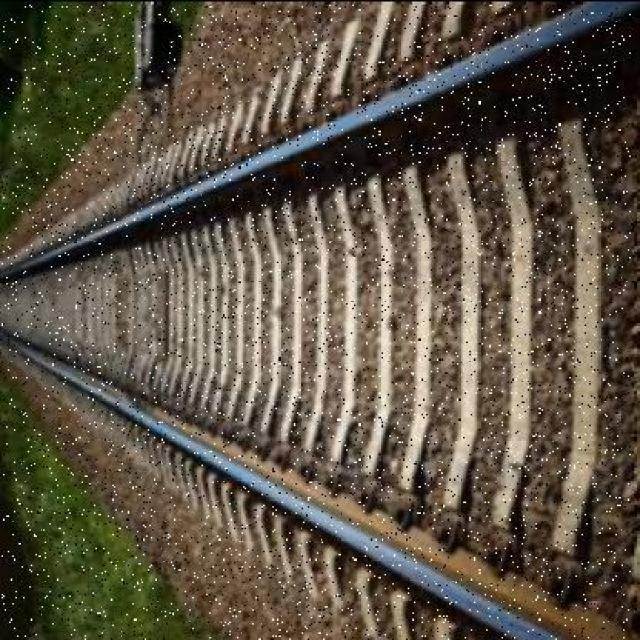rail: (2, 3, 631, 638)
